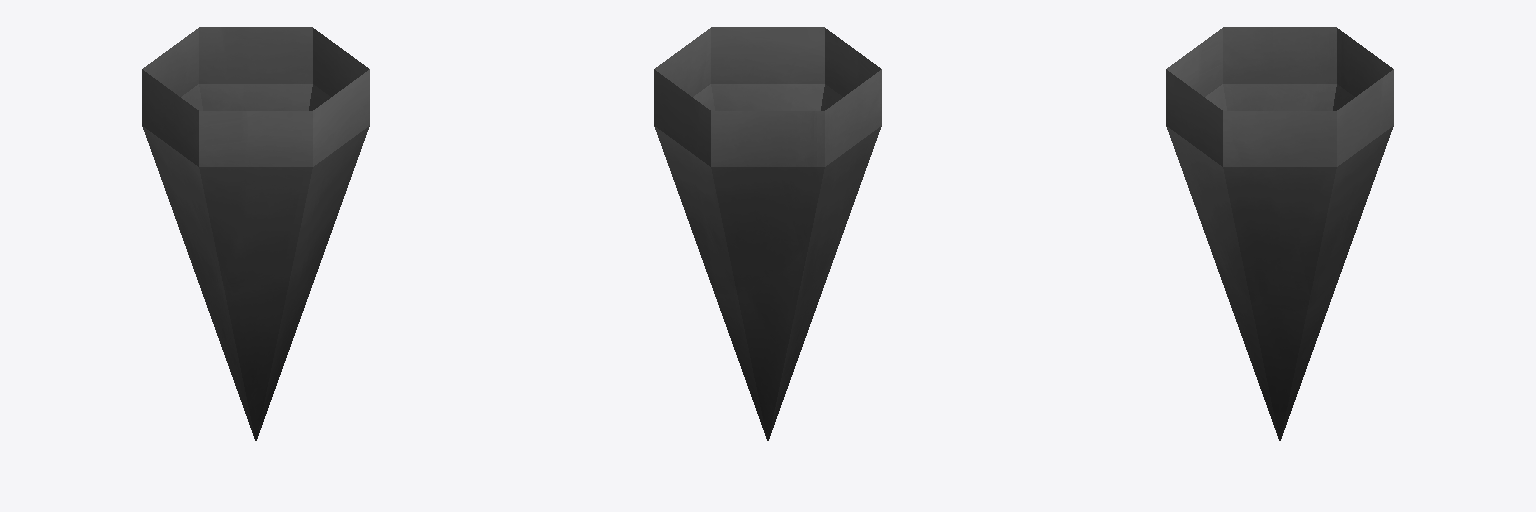
3 views of the same model, side by side, from view 1: azimuth 30°, elevation 25°; view 2: azimuth 150°, elevation 25°; view 3: azimuth 270°, elevation 25° (orthographic).
Visible parts, largest first — view 1: Cone; view 2: Cone; view 3: Cone.
Part boxes in pixels (bbox=[...]): Cone: bbox=[142, 27, 369, 440]; Cone: bbox=[654, 27, 881, 440]; Cone: bbox=[1166, 27, 1393, 440].
Size of the model in its own units: 3.38 by 7.06 by 3.9.
Materials: 1 (1 with a texture image).